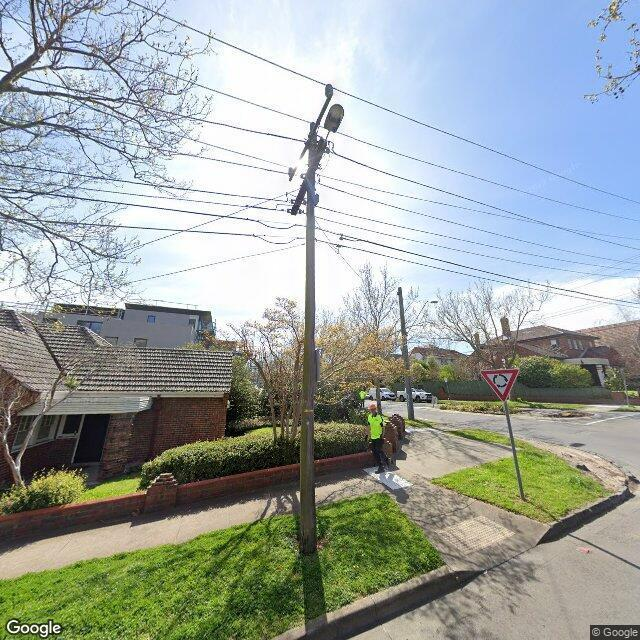HV-transmission: (288, 84, 333, 182)
crossarm: (289, 97, 331, 182), (287, 137, 330, 216)
streetlight: (406, 300, 438, 335), (324, 104, 345, 141)
timber-pole: (299, 133, 317, 554), (398, 286, 414, 420)
